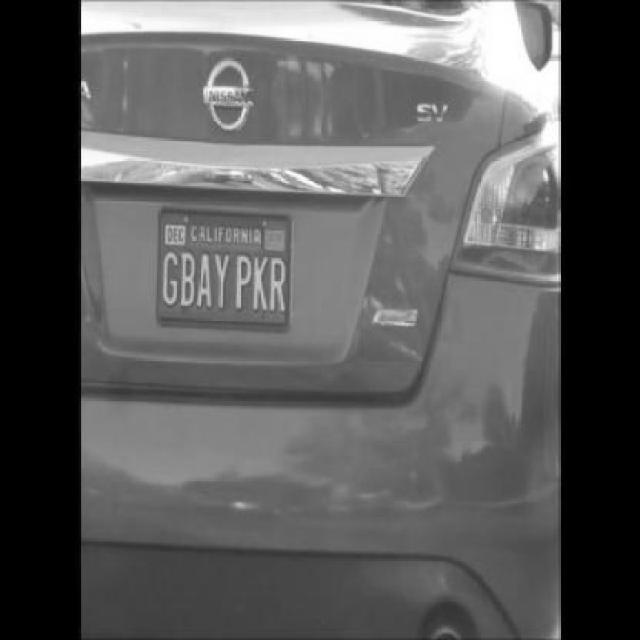licenseplate: (158, 210, 293, 333)
